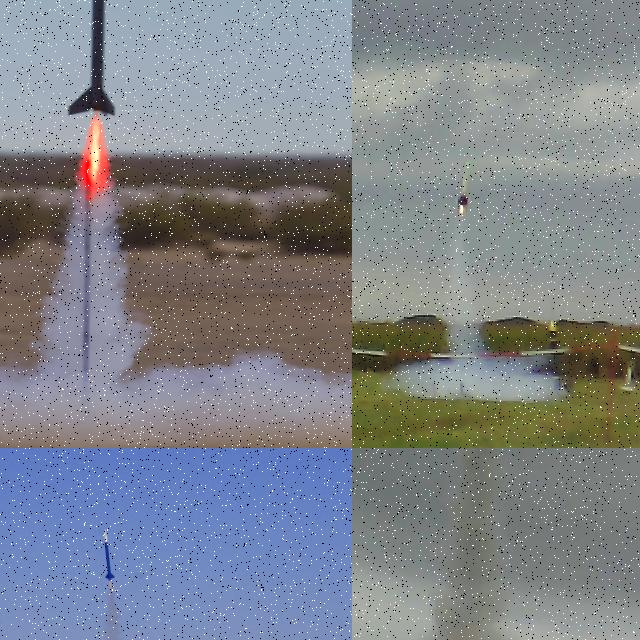Rocket: (68, 0, 115, 117), (546, 318, 574, 392), (455, 160, 472, 206), (618, 360, 640, 393), (103, 529, 115, 582)
